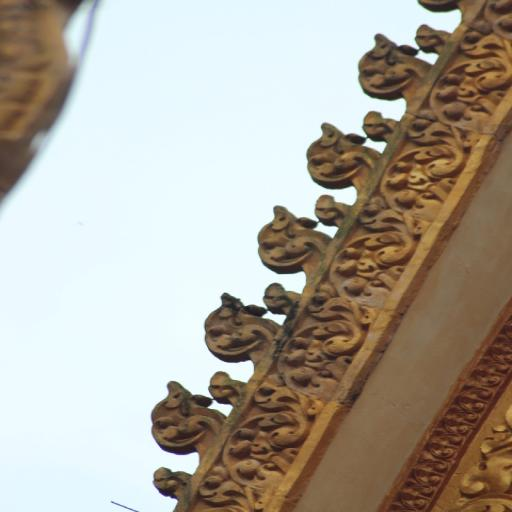la: (281, 308, 358, 388), (383, 140, 463, 209), (437, 60, 509, 129), (333, 230, 404, 299), (230, 413, 297, 483)
lua: (362, 32, 432, 102), (253, 204, 321, 276), (196, 293, 268, 358), (299, 118, 366, 187), (144, 382, 206, 449)
